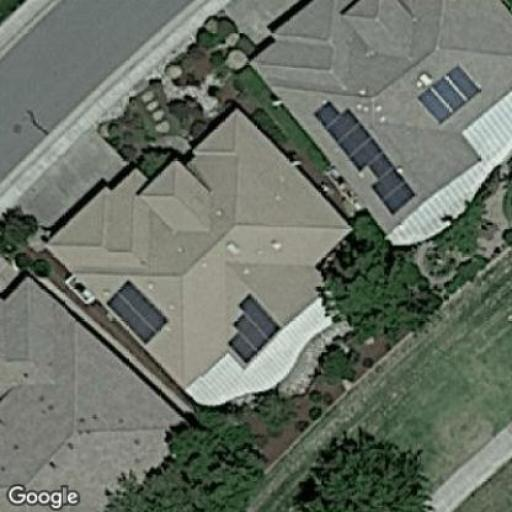solar-panel: (314, 98, 416, 216), (103, 277, 170, 345), (418, 58, 484, 124), (228, 294, 280, 362)
